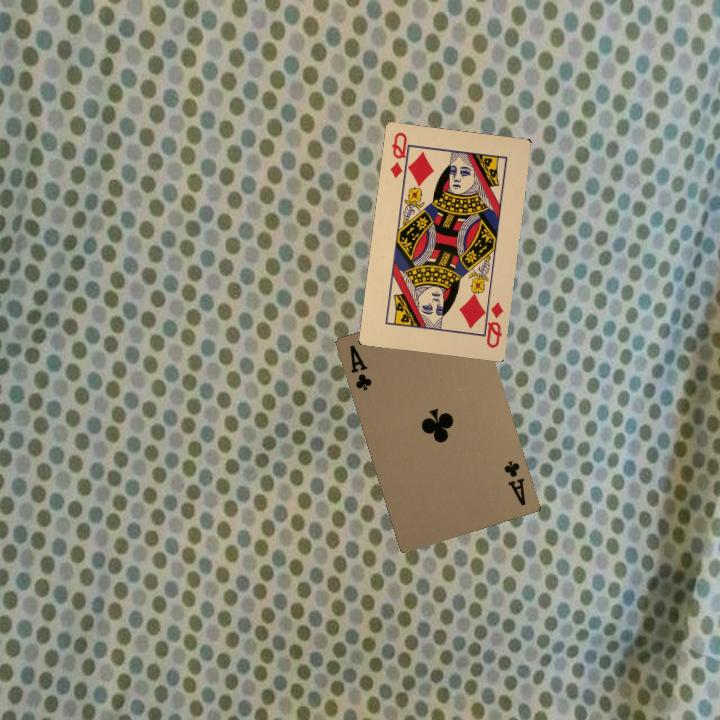Ac: (345, 341, 374, 393), (500, 457, 528, 508)
Qd: (477, 297, 506, 351), (386, 128, 412, 185)
